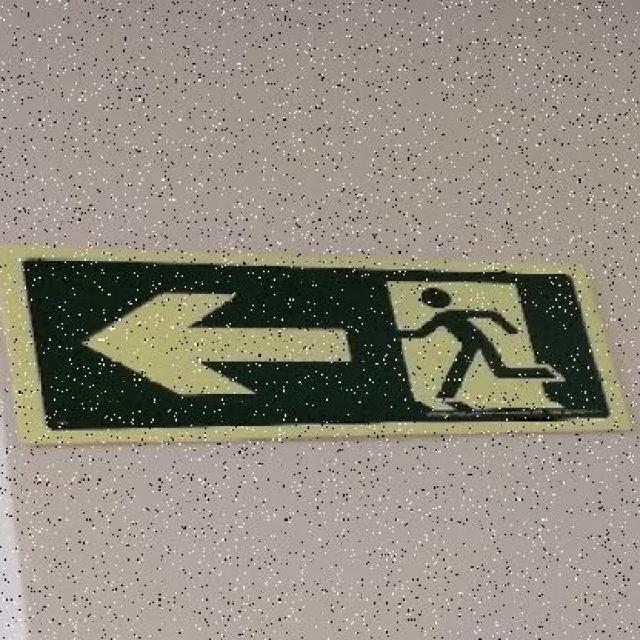emergency_exit: (5, 250, 632, 446)
